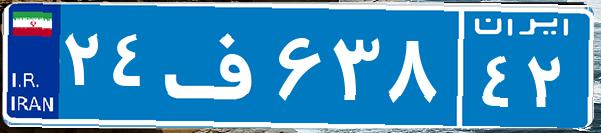2: (57, 26, 110, 107), (525, 38, 570, 115)
3: (330, 28, 385, 110)
4: (475, 38, 525, 113), (110, 28, 158, 105)
6: (273, 28, 330, 110)
8: (385, 28, 445, 110)
ف: (158, 15, 273, 115)
